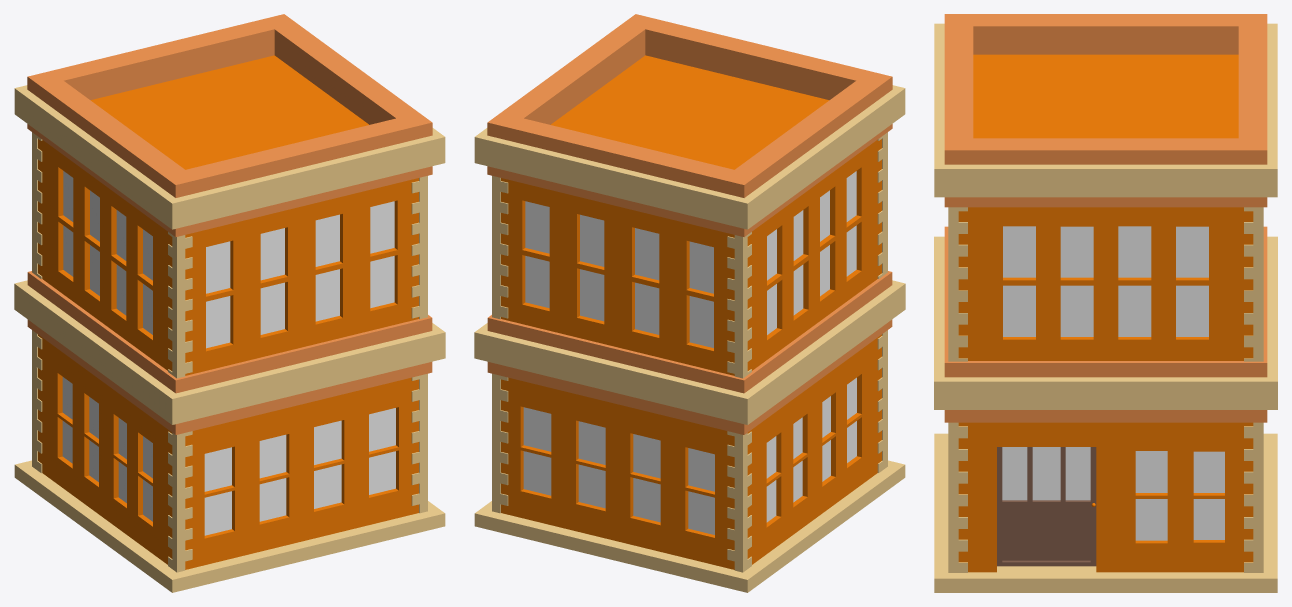
The model's file is building2.glb.
3 renders of one model, left to right at view 1: azimuth 30°, elevation 25°; view 2: azimuth 150°, elevation 25°; view 3: azimuth 270°, elevation 25°, orthographic. The views are drawn at different scales.
Parts seen in each view (by area): view 1: Building_01; view 2: Building_01; view 3: Building_01.
Boxes of the visible parts, x1=… form: Building_01: x1=14, y1=14, x2=445, y2=592; Building_01: x1=474, y1=14, x2=905, y2=592; Building_01: x1=934, y1=14, x2=1277, y2=592.
Size of the model in its own units: 2.2 by 3.09 by 2.2.
